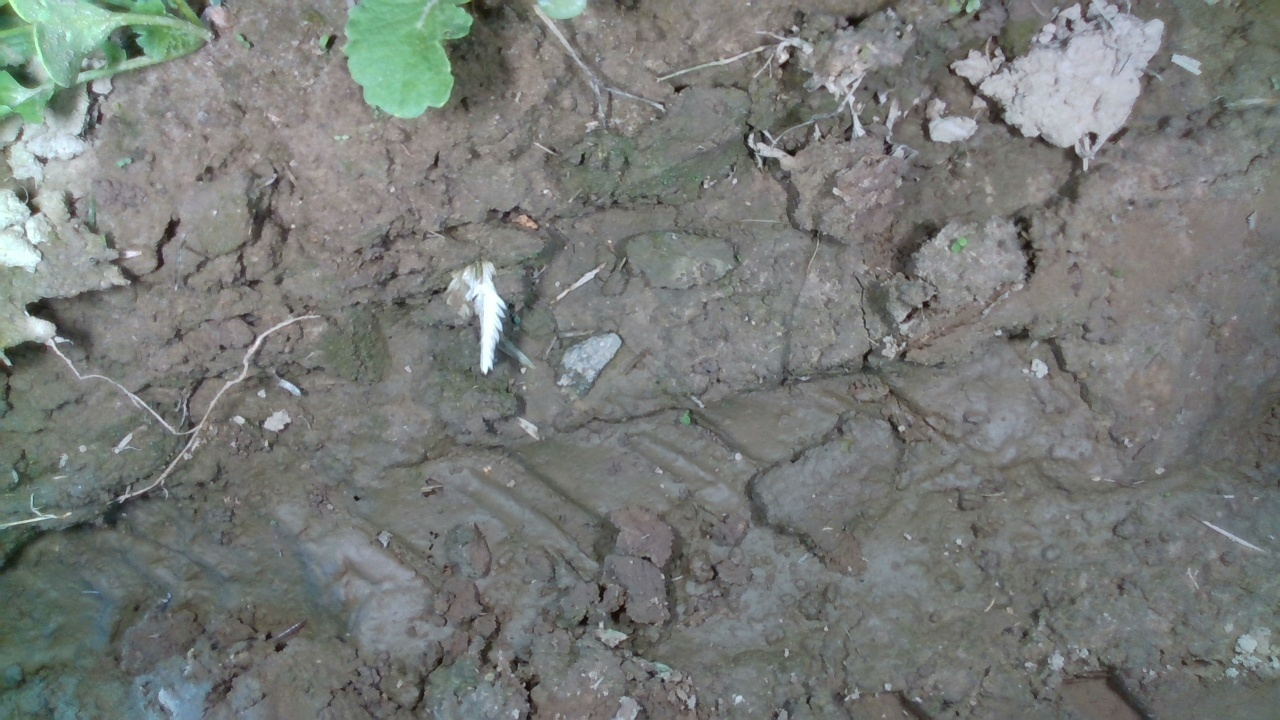weed: (948, 235, 967, 255), (116, 155, 132, 167)
